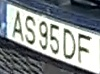5: (48, 22, 60, 55)
9: (37, 20, 48, 51)
A: (10, 9, 24, 43)
D: (62, 27, 76, 60)
F: (77, 31, 91, 65)
S: (24, 14, 36, 45)
